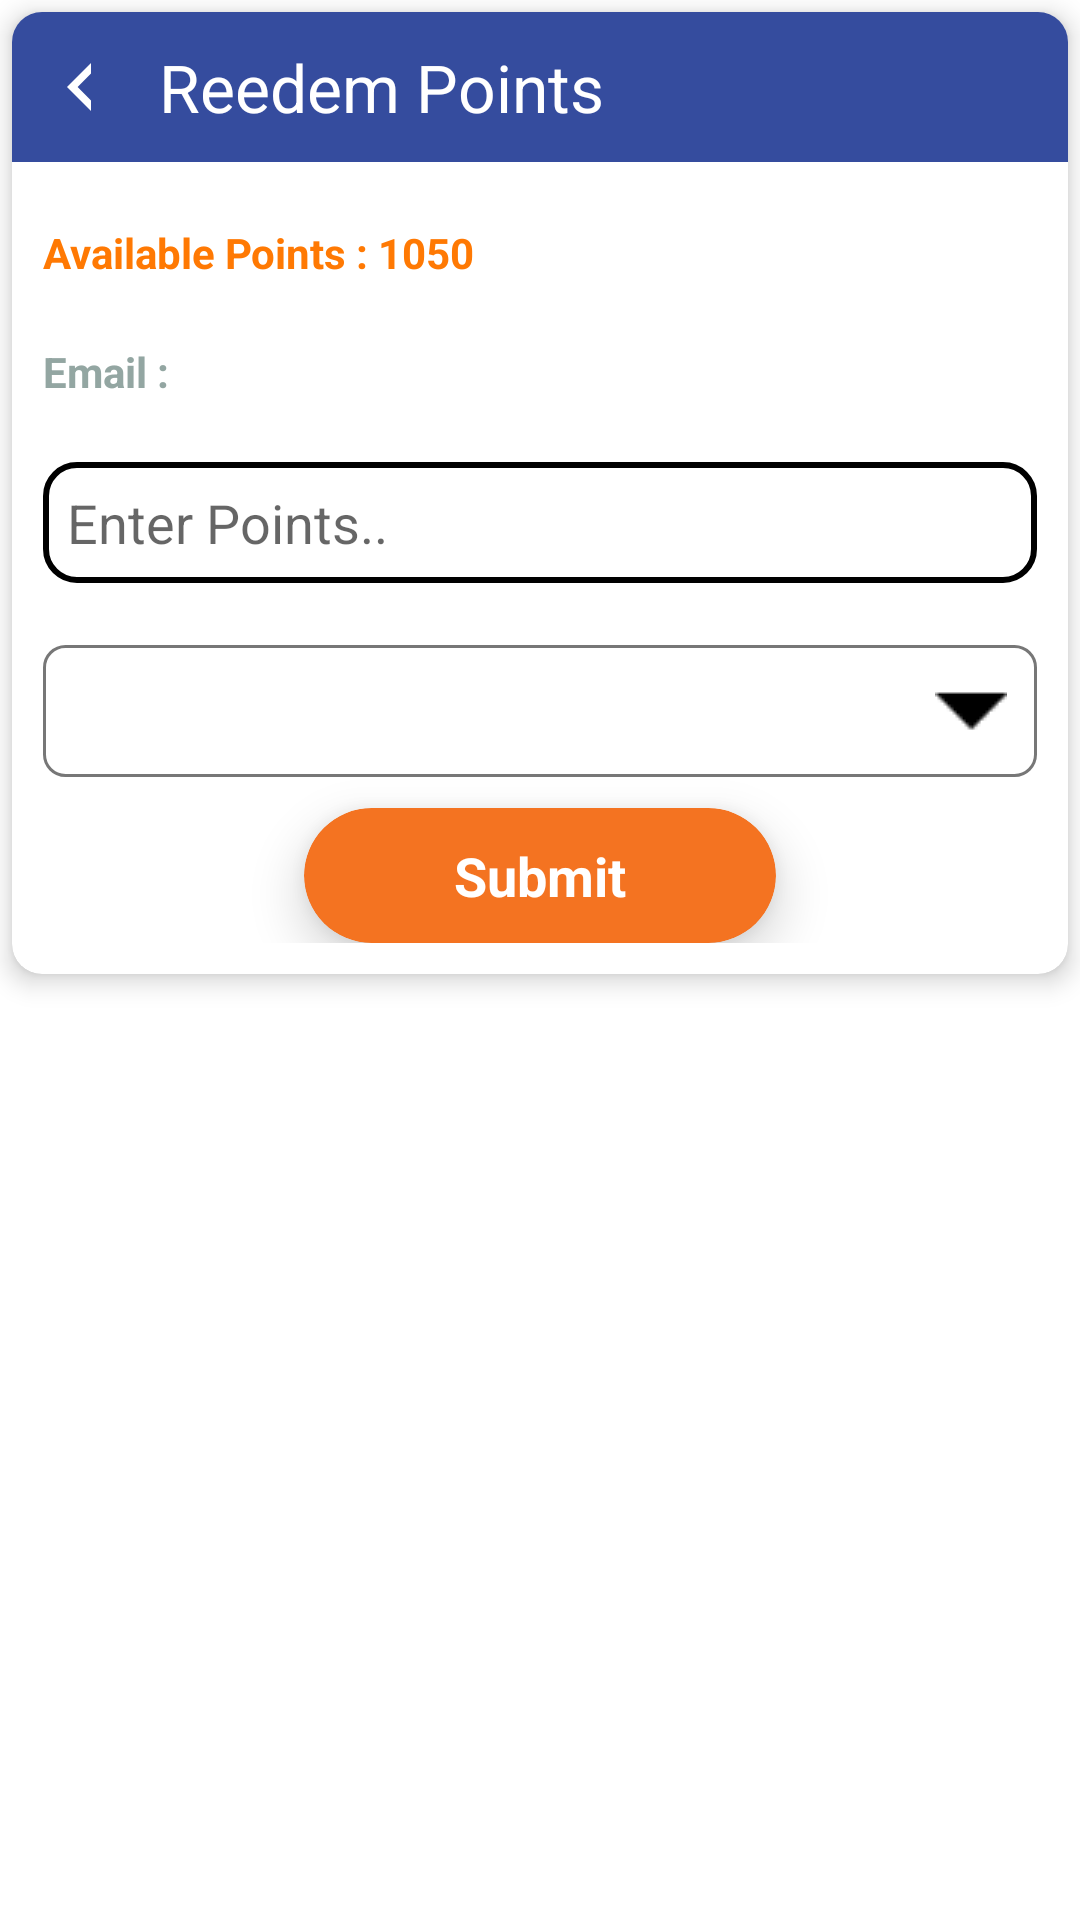

Where icons sit on this 1080px x 1920px app screen, as box(x1, y1, x2, y2):
back arrow: box(67, 63, 91, 111)
